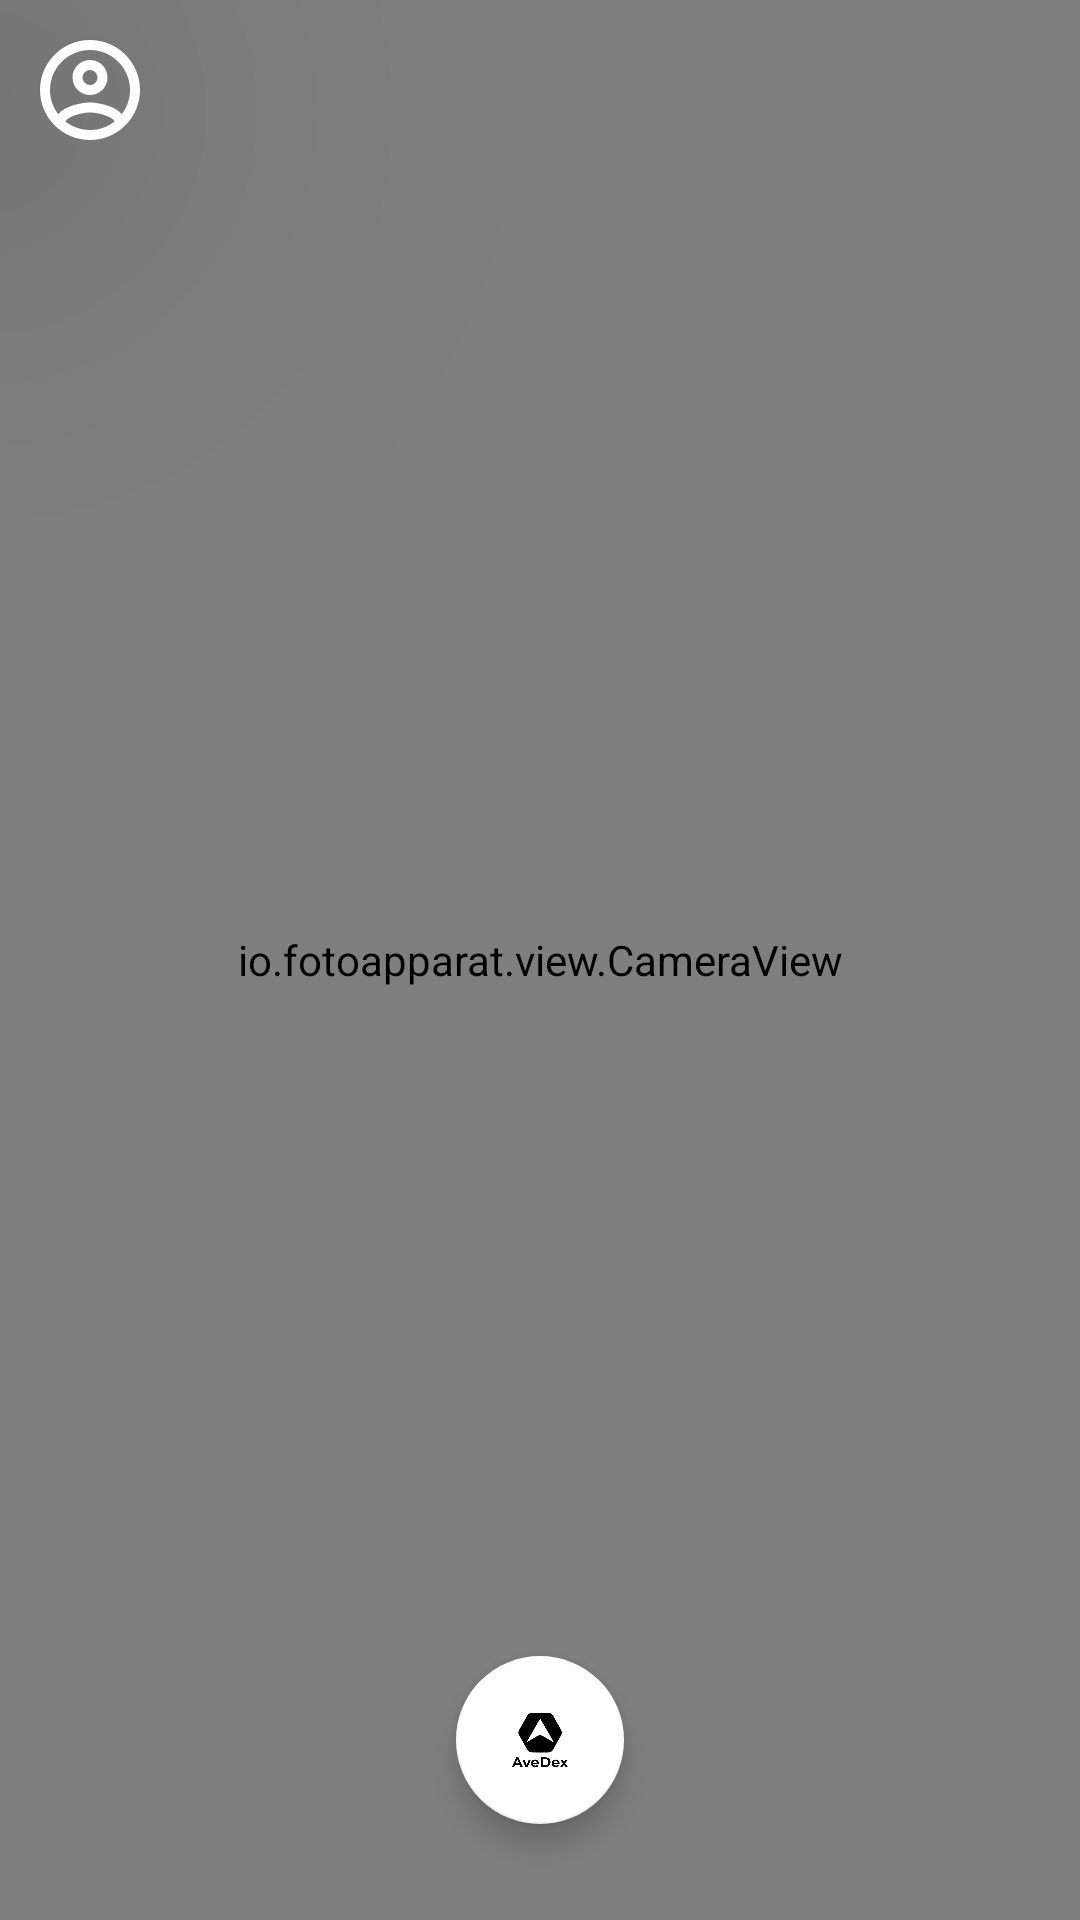

Icons on this 1080×1920 Android screen, each with its box as (x1, y1, x2, y2):
account: (40, 40, 140, 140)
